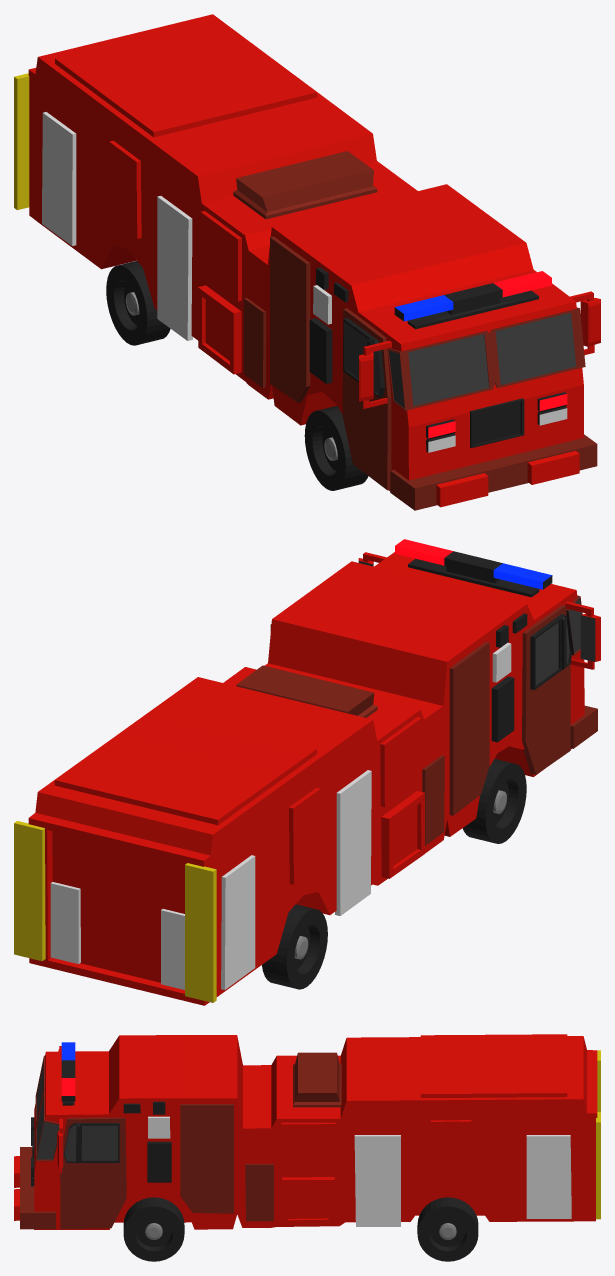
The model's file is d_FireTruck.fbx.
The picture shows the model from 3 angles, top to bottom: view 1: azimuth 30°, elevation 25°; view 2: azimuth 150°, elevation 25°; view 3: azimuth 270°, elevation 25°; orthographic projection. The views are drawn at different scales.
Visible parts, largest first — view 1: Cube.014; view 2: Cube.014; view 3: Cube.014.
Boxes of the visible parts, x1,y1,x2,y2 form: Cube.014: [14, 14, 600, 510]; Cube.014: [14, 539, 600, 1005]; Cube.014: [14, 1034, 600, 1261].
Size of the model in its own units: 244 by 215 by 693.
